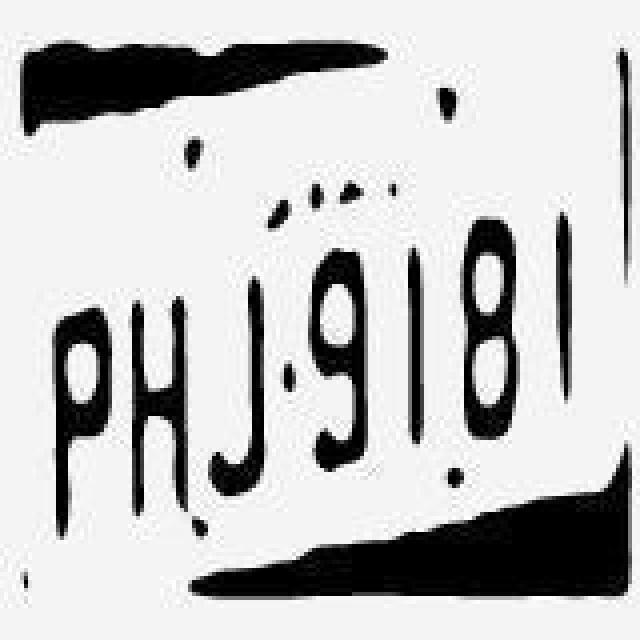1: (528, 200, 584, 480), (384, 232, 432, 488)
8: (438, 202, 522, 470)
9: (304, 244, 384, 508)
H: (120, 246, 200, 522)
J: (204, 262, 276, 522)
P: (36, 268, 116, 548)
